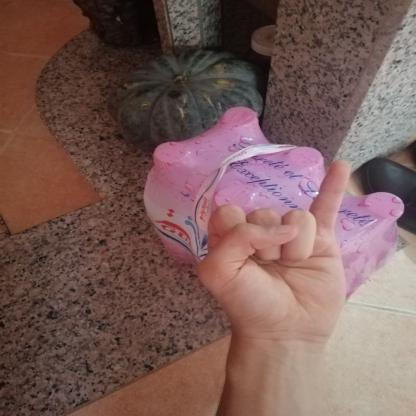MEEM: (181, 154, 368, 356)
